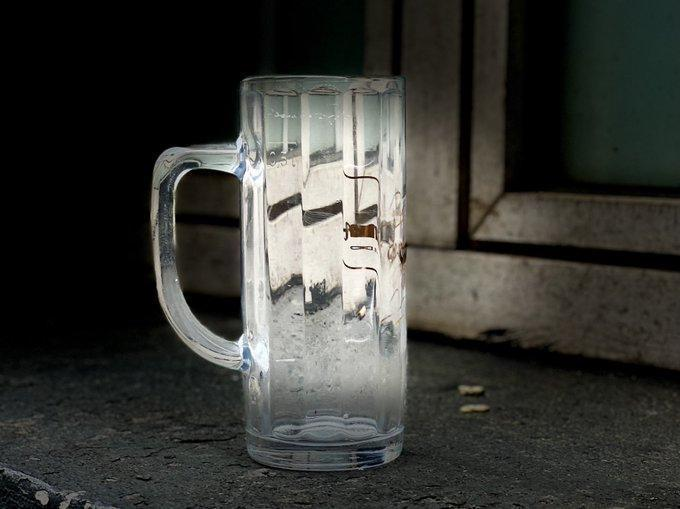glass-mug: (145, 69, 416, 476)
